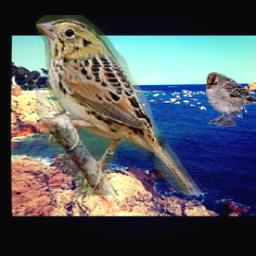Sparrow: (37, 16, 203, 196), (203, 72, 256, 127)
